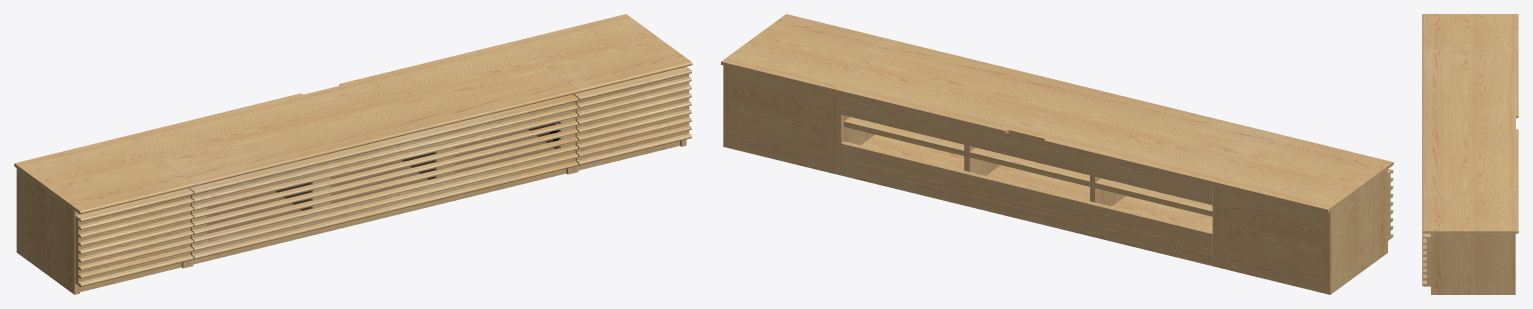
The model's file is base_240tv_oak.glb.
3 views of the same model, side by side, from view 1: azimuth 30°, elevation 25°; view 2: azimuth 150°, elevation 25°; view 3: azimuth 270°, elevation 25° (orthographic). The views are drawn at different scales.
Visible parts, largest first — view 1: object 30, object 26, object 28, object 9, object 51, object 59, object 60, object 3, object 1798, object 56, object 53, object 54 (+30 smaller); view 2: object 30, object 26, object 28, object 6, object 3, object 4, object 5, object 7, object 9, object 24, object 31, object 1795 (+14 smaller); view 3: object 30, object 11, object 28, object 26, object 60.
Boxes of the visible parts, x1,y1,x2,y2 form: object 30: [128, 41, 578, 186]; object 26: [14, 135, 194, 214]; object 28: [513, 14, 692, 92]; object 9: [16, 168, 79, 294]; object 51: [189, 94, 578, 194]; object 59: [75, 195, 190, 282]; object 60: [575, 74, 689, 160]; object 3: [206, 129, 554, 233]; object 1798: [190, 150, 575, 254]; object 56: [191, 137, 578, 234]; object 53: [191, 112, 578, 210]; object 54: [191, 120, 578, 218]; object 30: [833, 41, 1280, 185]; object 26: [1215, 134, 1393, 212]; object 28: [721, 14, 898, 92]; object 6: [841, 141, 1212, 249]; object 3: [841, 134, 1212, 255]; object 4: [1222, 192, 1325, 277]; object 5: [728, 71, 830, 156]; object 7: [841, 98, 1212, 205]; object 9: [1325, 169, 1387, 294]; object 24: [841, 165, 1212, 265]; object 31: [841, 94, 1212, 189]; object 1795: [844, 117, 964, 155]; object 30: [1422, 54, 1518, 191]; object 11: [1431, 233, 1515, 294]; object 28: [1422, 191, 1518, 233]; object 26: [1422, 14, 1518, 54]; object 60: [1426, 239, 1430, 283].
Size of the model in its own units: 2.37 by 0.324 by 0.445.
7 materials, 2 textured.
